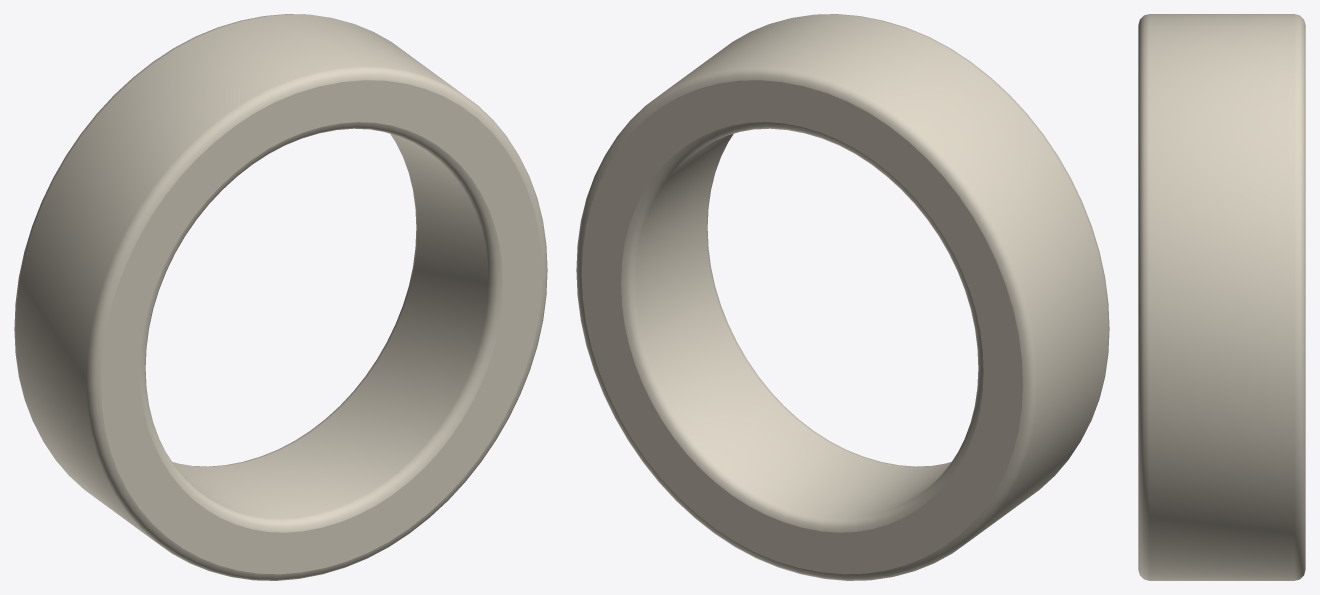
Rendered from letter_o.glb.
3 renders of one model, left to right at view 1: azimuth 30°, elevation 25°; view 2: azimuth 150°, elevation 25°; view 3: azimuth 270°, elevation 25°, orthographic. The views are drawn at different scales.
Visible parts, largest first — view 1: color_body; view 2: color_body; view 3: color_body.
Boxes of the visible parts, x1,y1,x2,y2 form: color_body: (14,14,547,580); color_body: (576,14,1109,580); color_body: (1138,14,1305,580).
Bounding box in the file's own units: 0.7901 × 0.825 × 0.242.
